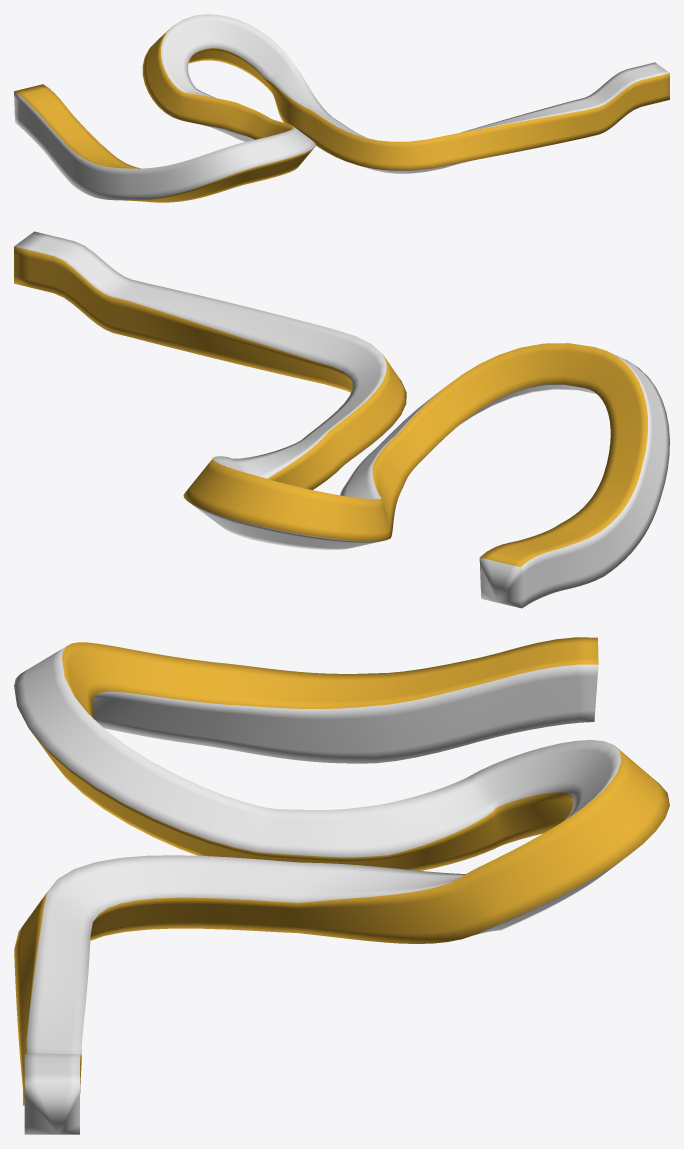
Rendered from weird_curve.fbx.
3 views of the same model, one above another, from view 1: azimuth 30°, elevation 25°; view 2: azimuth 150°, elevation 25°; view 3: azimuth 270°, elevation 25° (orthographic). The views are drawn at different scales.
Visible parts, largest first — view 1: weird_curve; view 2: weird_curve; view 3: weird_curve.
Boxes of the visible parts, x1,y1,x2,y2 form: weird_curve: (14,14,669,202); weird_curve: (14,231,669,608); weird_curve: (14,637,669,1134).
Size of the model in its own units: 216 by 34.96 by 130.
